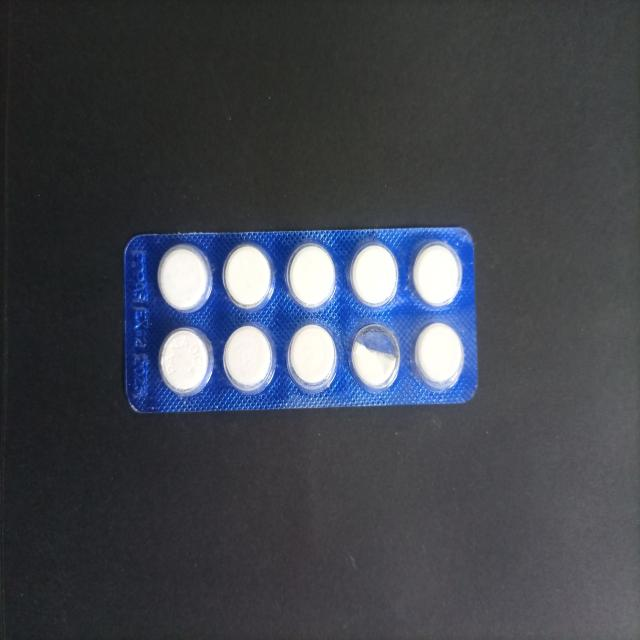defect: (347, 320, 402, 396)
